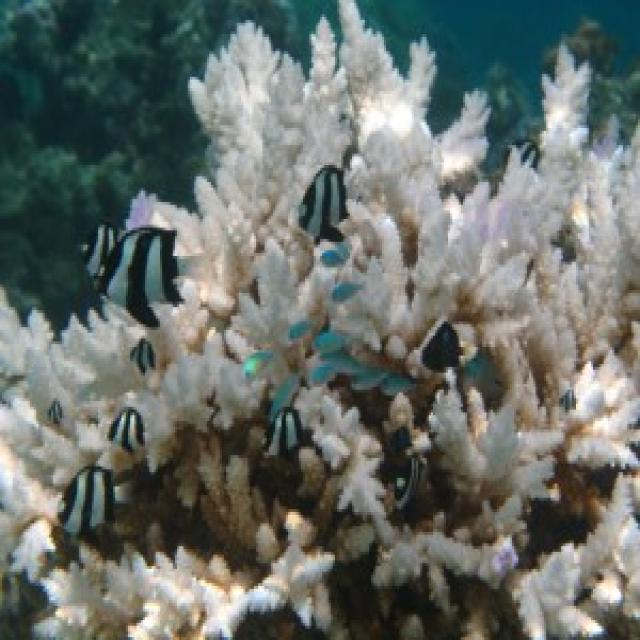Bleached: (426, 359, 639, 638), (1, 288, 248, 527), (189, 1, 434, 237), (402, 146, 639, 368), (227, 186, 415, 453), (10, 519, 334, 638), (539, 47, 639, 294)
